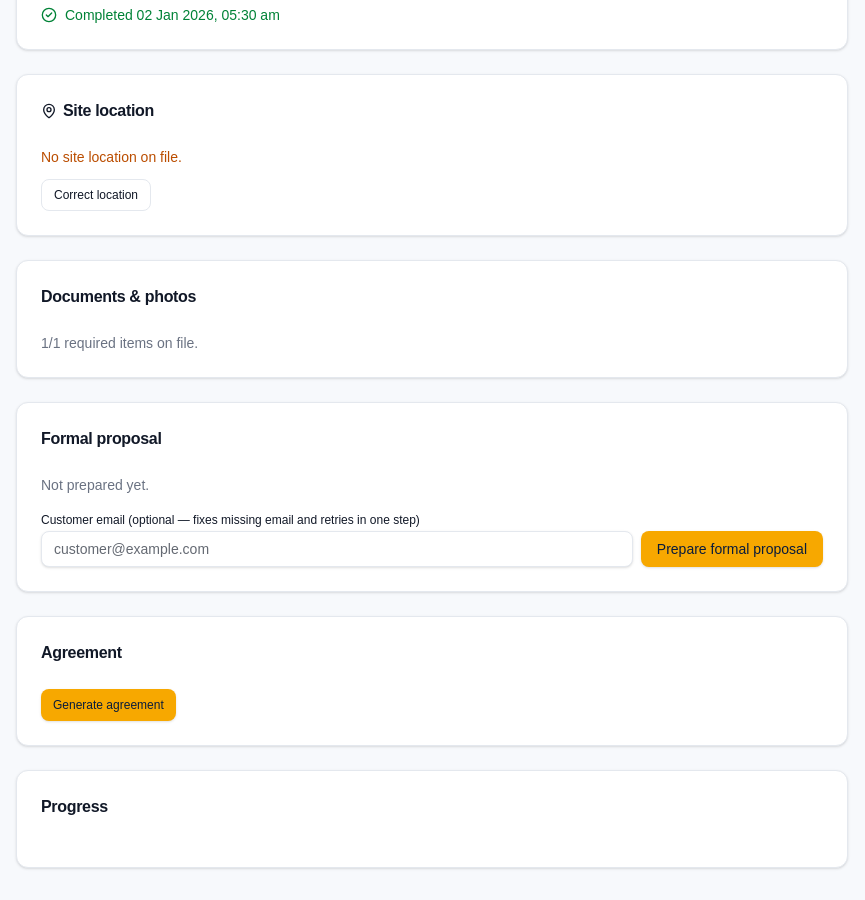
it: Staff agreement section — approved wording › agreement_wording_not_approved from the API is a plain sentence
(page scrolled)
Click the button "Generate agreement". click: [108, 705]
box: [41,689,176,721]
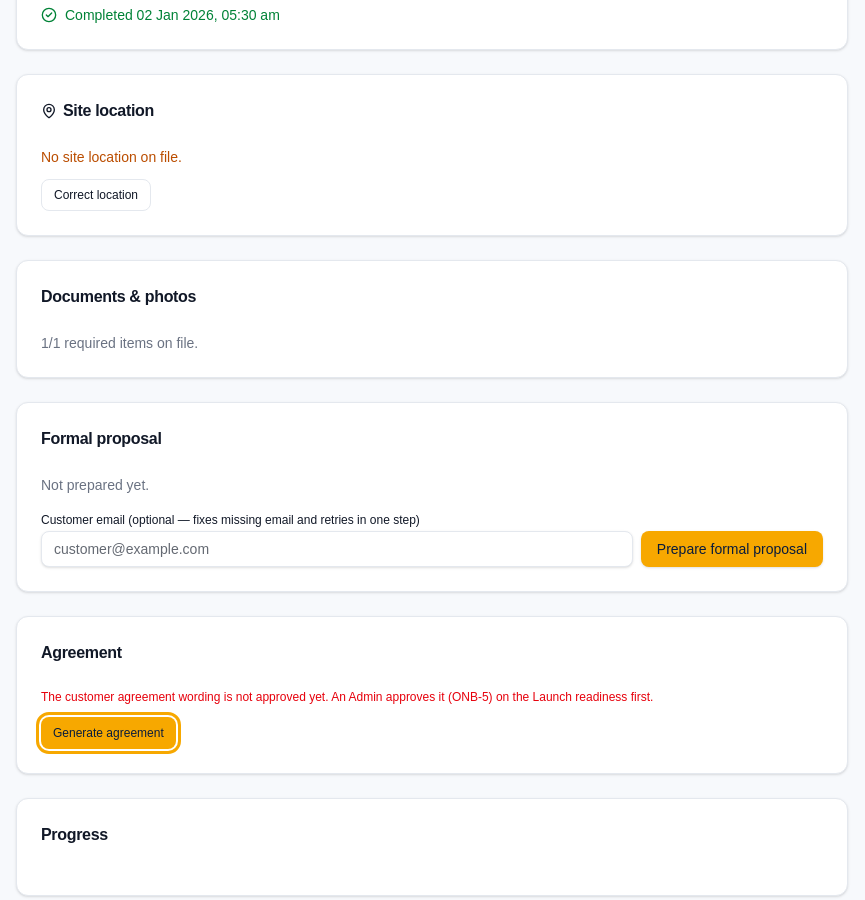
Now the message shows "wording is not approved yet", box [41,690,653,704]
